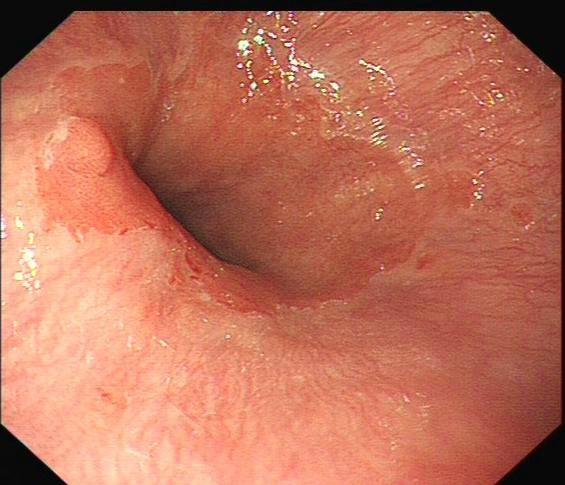Polyp: (54, 114, 112, 178)
